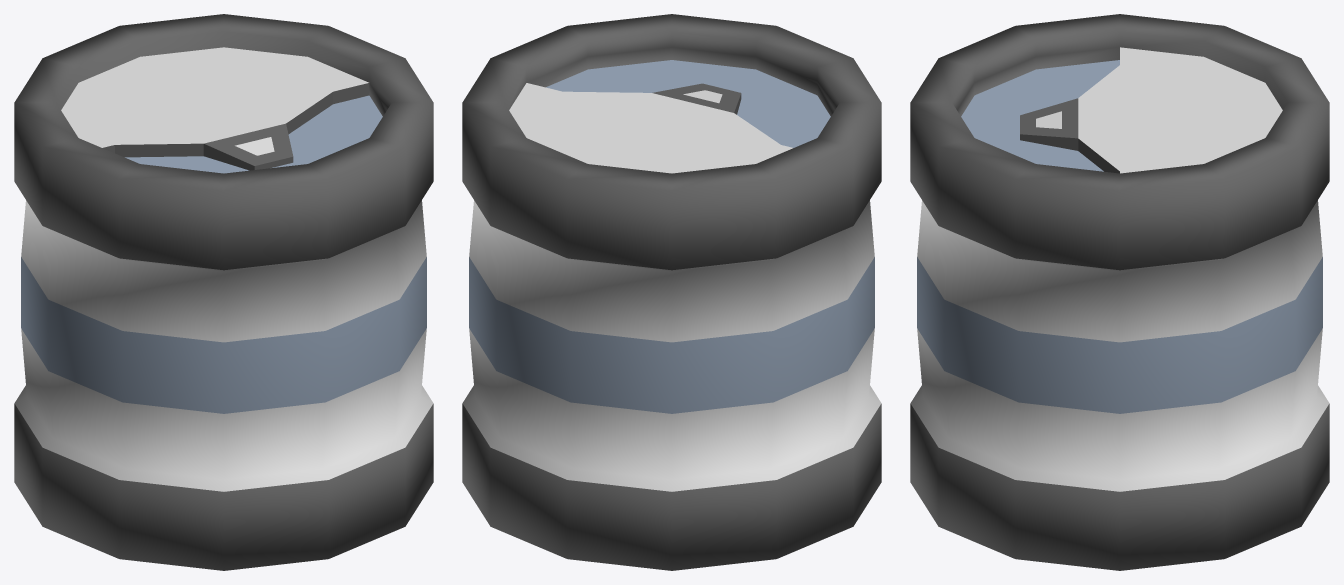
File: Barrel.fbx
3 renders of one model, left to right at view 1: azimuth 30°, elevation 25°; view 2: azimuth 150°, elevation 25°; view 3: azimuth 270°, elevation 25°, orthographic.
Visible parts, largest first — view 1: Barrel; view 2: Barrel; view 3: Barrel.
Boxes of the visible parts, x1=… form: Barrel: x1=14, y1=14, x2=433, y2=570; Barrel: x1=462, y1=14, x2=881, y2=570; Barrel: x1=910, y1=14, x2=1329, y2=570.
Size of the model in its own units: 200 by 200 by 200.
